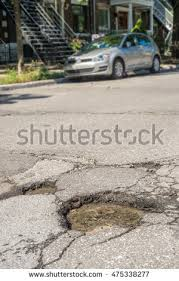pothole: (64, 182, 161, 249), (7, 158, 66, 211)
